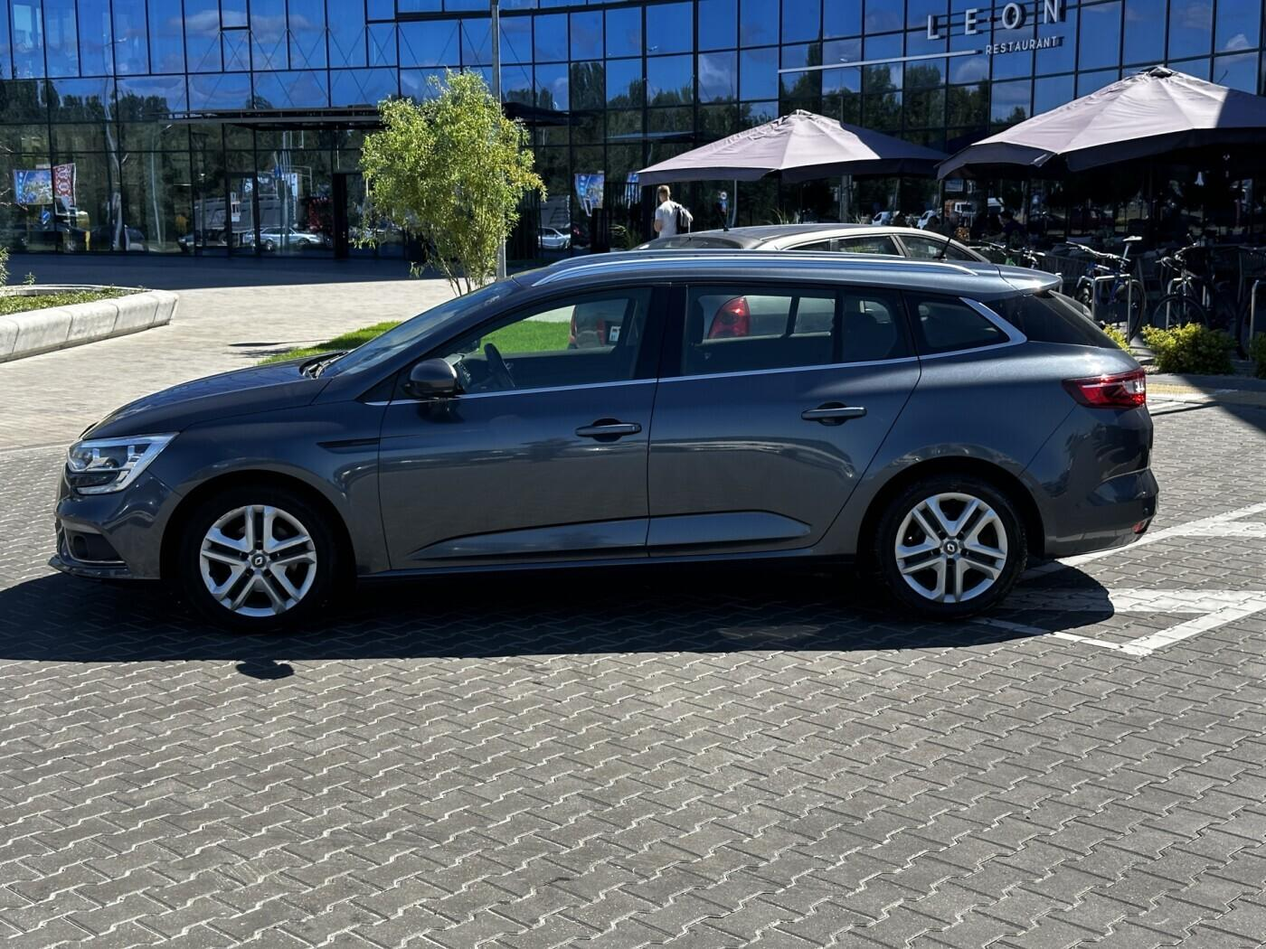Megane_2016-2020: (40, 249, 1167, 628)
